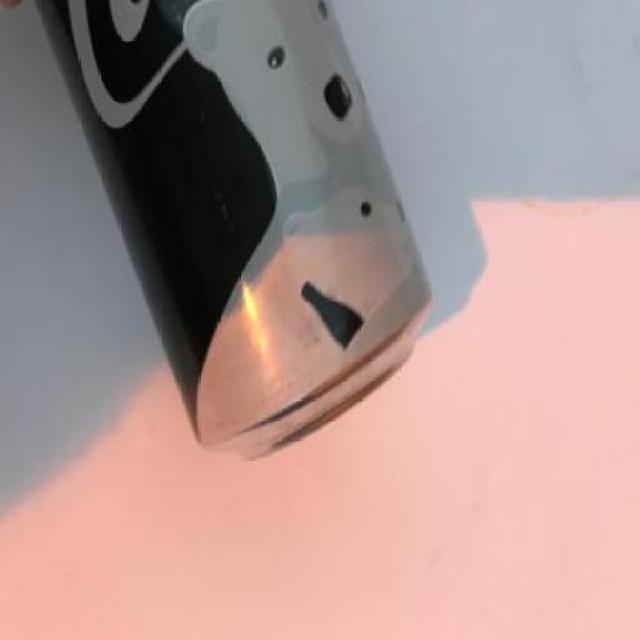METAL: (37, 2, 434, 463)
